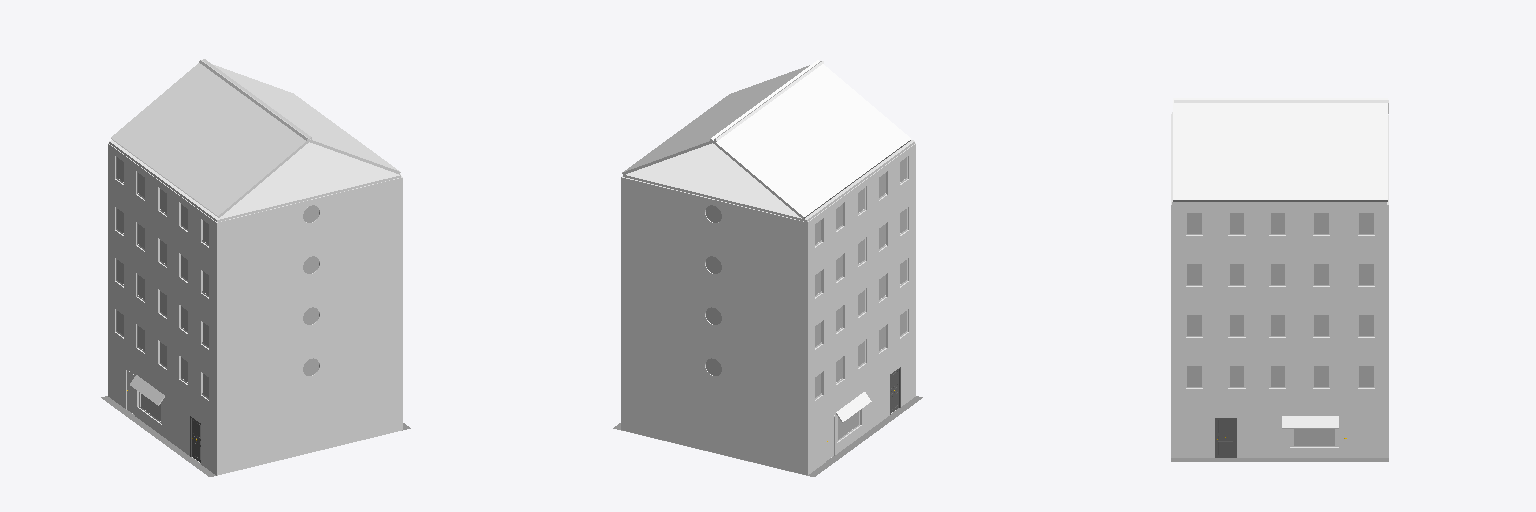
The model's file is building4.obj.
The picture shows the model from 3 angles: view 1: azimuth 30°, elevation 25°; view 2: azimuth 150°, elevation 25°; view 3: azimuth 270°, elevation 25°; orthographic projection.
Parts seen in each view (by area): view 1: front_545, wall_2_11, wall_18_107, wall_6_35, wall_10_59, wall_14_83, room_26_127, wall_5_29, wall_9_53, wall_1_5, wall_17_101, wall_13_77 (+2 smaller); view 2: front_545, wall_20_119, wall_4_23, wall_8_47, wall_12_71, wall_16_95, room_26_127, wall_1_5, wall_9_53, wall_5_29, wall_17_101, wall_13_77 (+2 smaller); view 3: front_551, wall_3_17, wall_7_41, wall_11_65, wall_19_113, wall_15_89, ground_1, sweethome3d_opening_on_hinge_1_doorOutside_409, room_26_127, sweethome3d_window_pane_on_hinge_1_539, front_532, sweethome3d_opening_on_hinge_1_door_526 (+1 smaller).
Boxes of the visible parts, <box> form: front_545: <box>111,59,310,215</box>; wall_2_11: <box>217,331,402,426</box>; wall_18_107: <box>217,178,402,273</box>; wall_6_35: <box>217,280,402,375</box>; wall_10_59: <box>217,229,402,324</box>; wall_14_83: <box>217,382,402,475</box>; room_26_127: <box>109,140,400,221</box>; wall_5_29: <box>108,246,216,375</box>; wall_9_53: <box>108,195,216,324</box>; wall_1_5: <box>108,297,216,426</box>; wall_17_101: <box>108,144,216,273</box>; wall_13_77: <box>108,348,216,475</box>; front_545: <box>711,60,910,216</box>; wall_20_119: <box>621,177,806,273</box>; wall_4_23: <box>621,330,806,426</box>; wall_8_47: <box>621,279,806,375</box>; wall_12_71: <box>621,228,806,324</box>; wall_16_95: <box>621,382,806,474</box>; room_26_127: <box>623,140,914,221</box>; wall_1_5: <box>807,297,915,426</box>; wall_9_53: <box>807,195,915,323</box>; wall_5_29: <box>807,246,915,374</box>; wall_17_101: <box>807,144,915,272</box>; wall_13_77: <box>807,348,915,474</box>; front_551: <box>1173,98,1387,199</box>; wall_3_17: <box>1171,358,1388,409</box>; wall_7_41: <box>1171,307,1388,357</box>; wall_11_65: <box>1171,256,1388,306</box>; wall_19_113: <box>1171,205,1388,255</box>; wall_15_89: <box>1171,410,1388,457</box>; ground_1: <box>1171,458,1388,461</box>; sweethome3d_opening_on_hinge_1_doorOutside_409: <box>1216,419,1235,457</box>; room_26_127: <box>1172,112,1386,204</box>; sweethome3d_window_pane_on_hinge_1_539: <box>1294,429,1334,445</box>; front_532: <box>1282,416,1338,427</box>; sweethome3d_opening_on_hinge_1_door_526: <box>1344,419,1360,457</box>.
Bounding box in the file's own units: 1083 × 1612 × 1015.